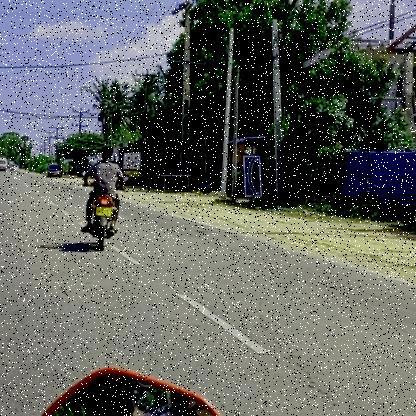motorcycle: (79, 191, 122, 253)
